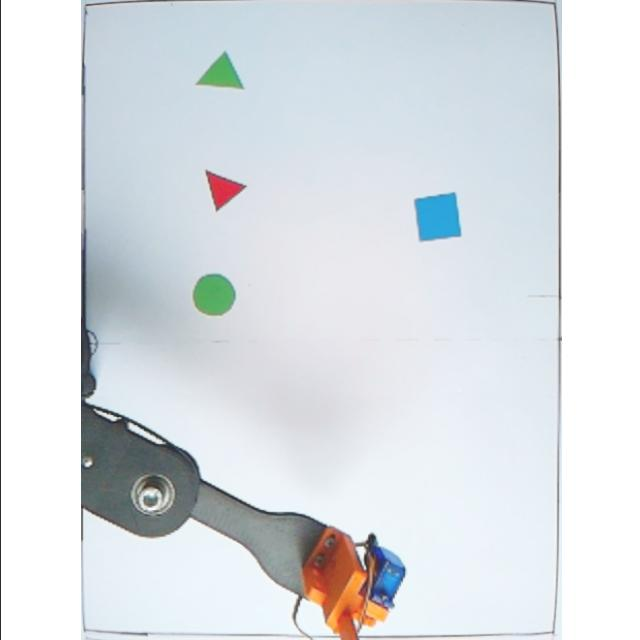blueSquare: (408, 192, 460, 242)
greenCircle: (190, 273, 234, 317)
greenTriangle: (192, 52, 244, 92)
redTriangle: (200, 168, 248, 212)
